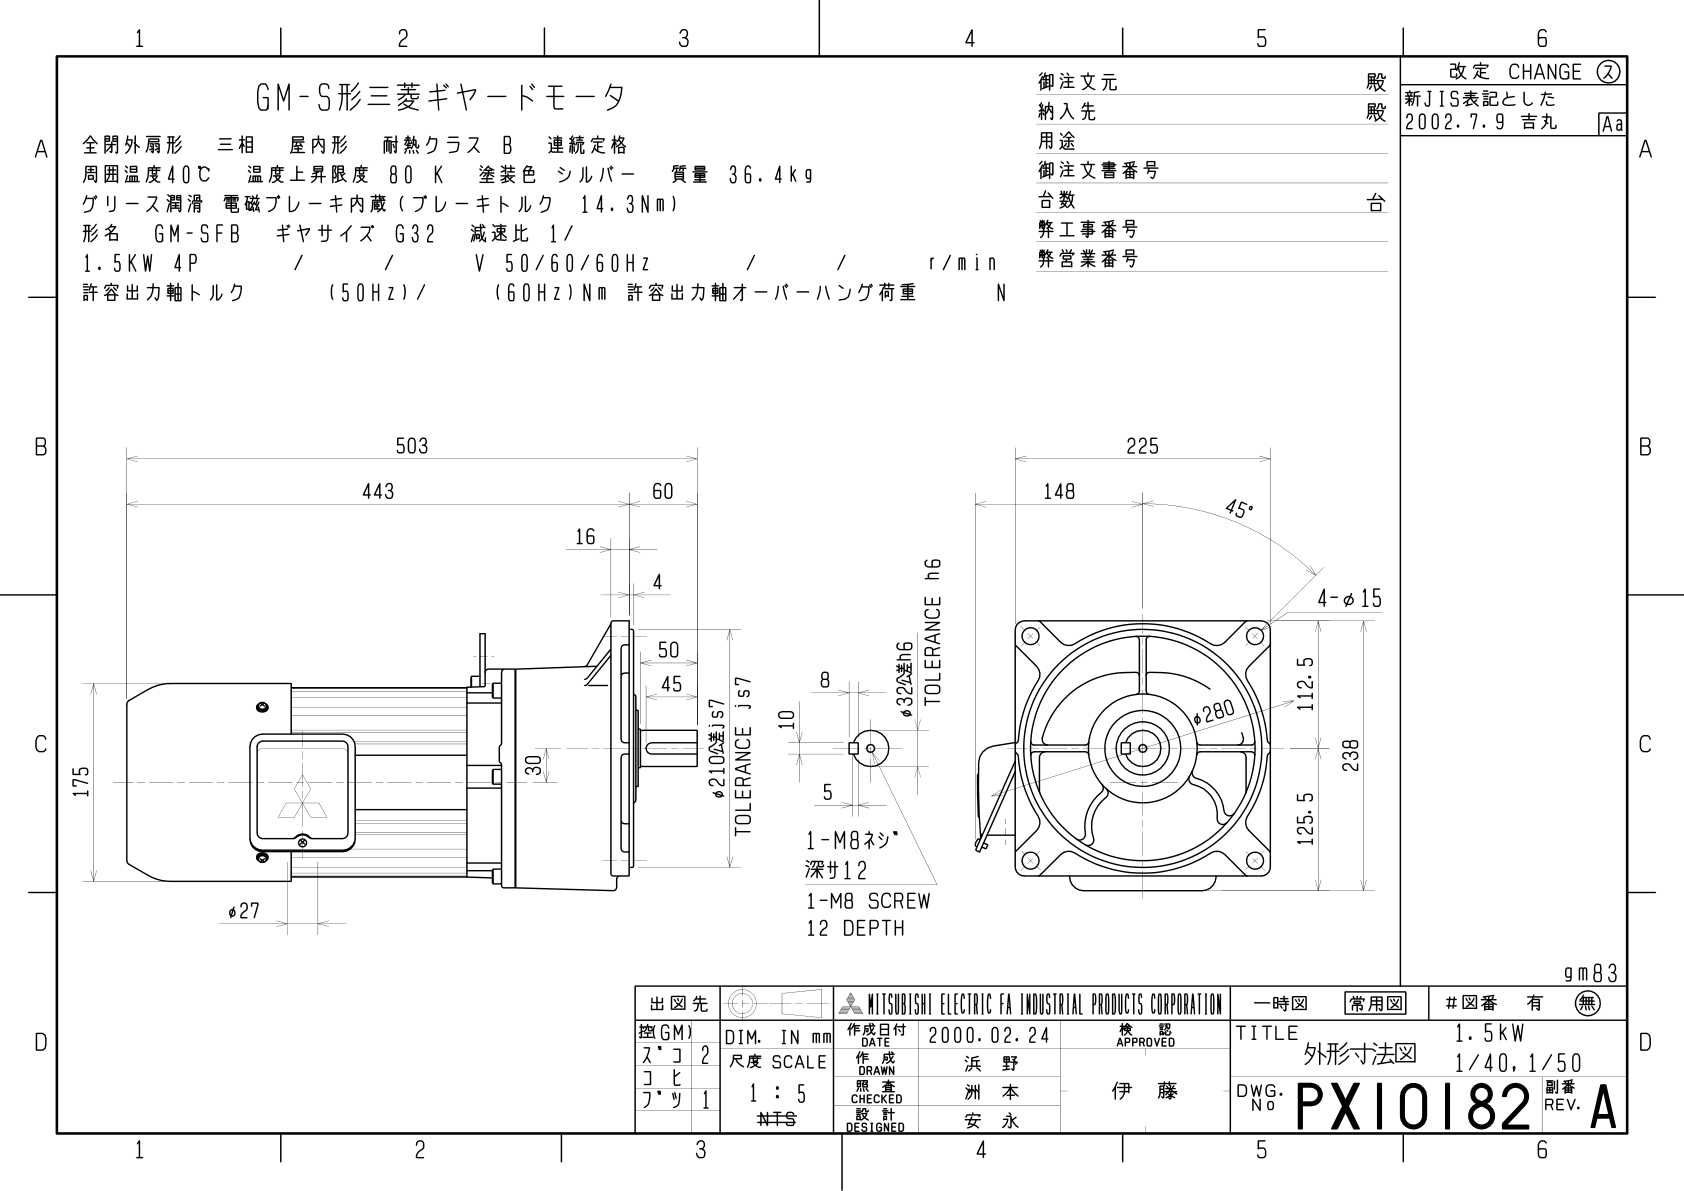GM_S_屋内＿三相_フランジ: (61, 385, 1386, 962)
